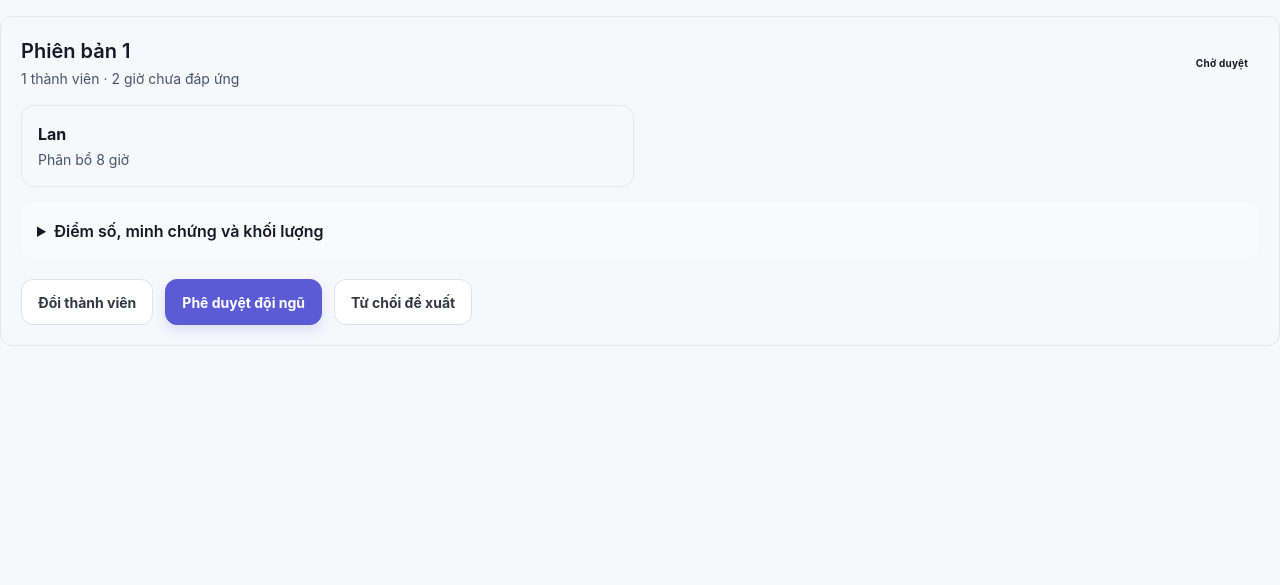
Scenario: RecommendationCard › discloses deterministic score, evidence, workload and uncovered demand
Expected: the text "1 thành viên · 2 giờ chưa đáp ứng" is shown, x1=21 y1=69 x2=239 y2=89
Click the heading "Điểm số, minh chứng và khối lượng" at [189, 231], box x1=54 y1=221 x2=323 y2=241
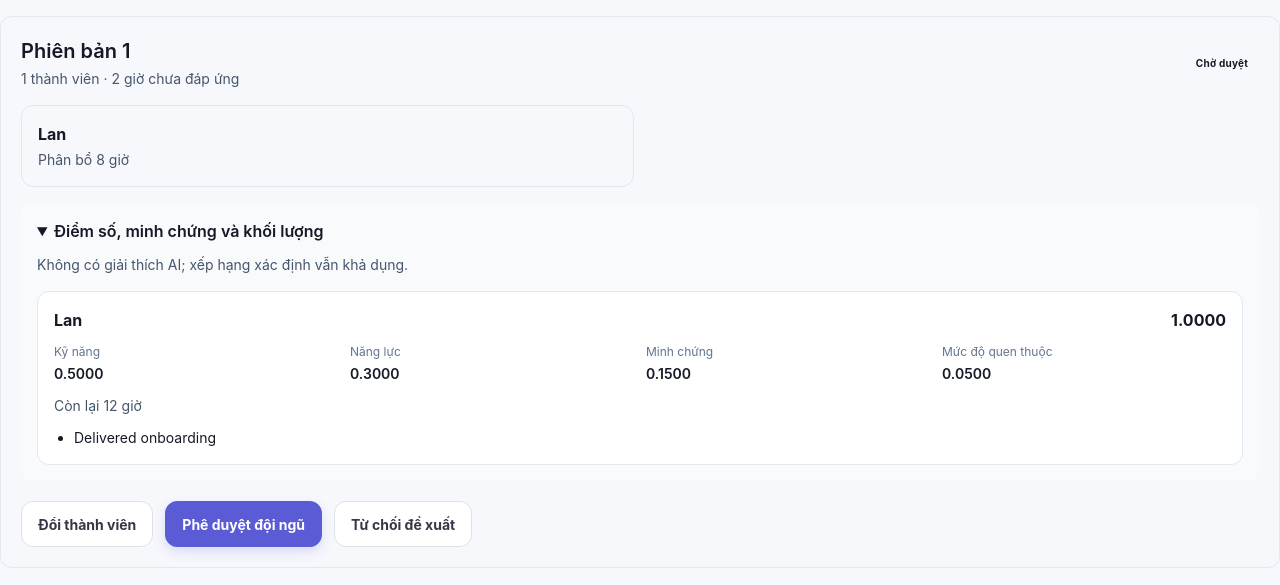
Now the list item "Delivered onboarding" is shown, box x1=74 y1=429 x2=216 y2=446
Now the text "Còn lại 12 giờ" is shown, box x1=54 y1=397 x2=142 y2=414
Now the text "Kỹ năng" is shown, box x1=54 y1=344 x2=100 y2=359
